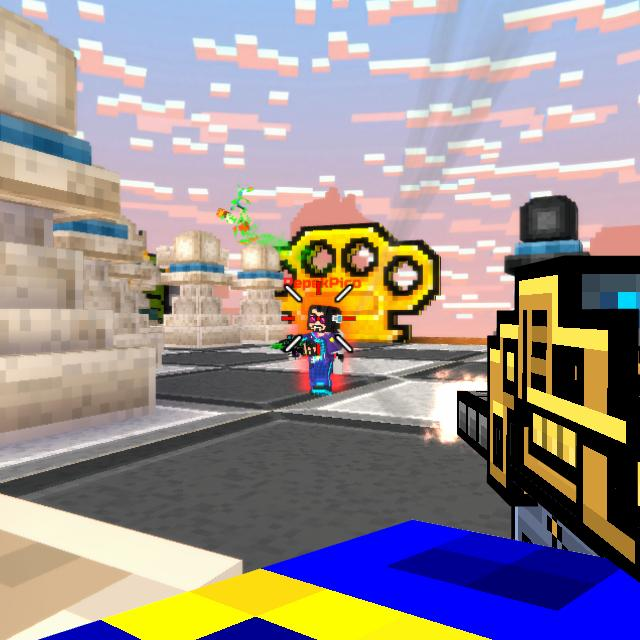Enemy: (295, 305, 344, 396)
